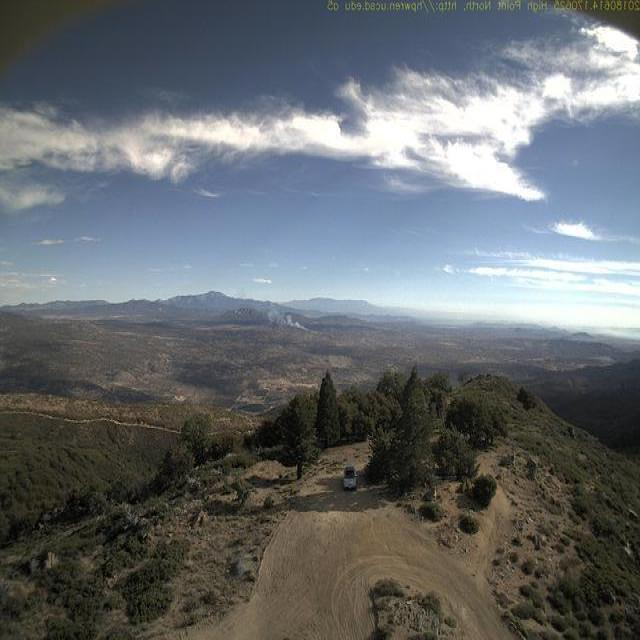Smoke: (259, 296, 320, 332)
